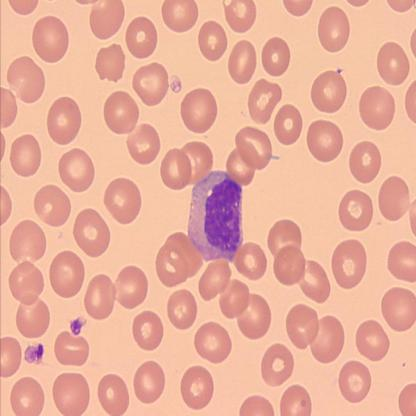Metamyelocyte: (185, 164, 246, 264)
